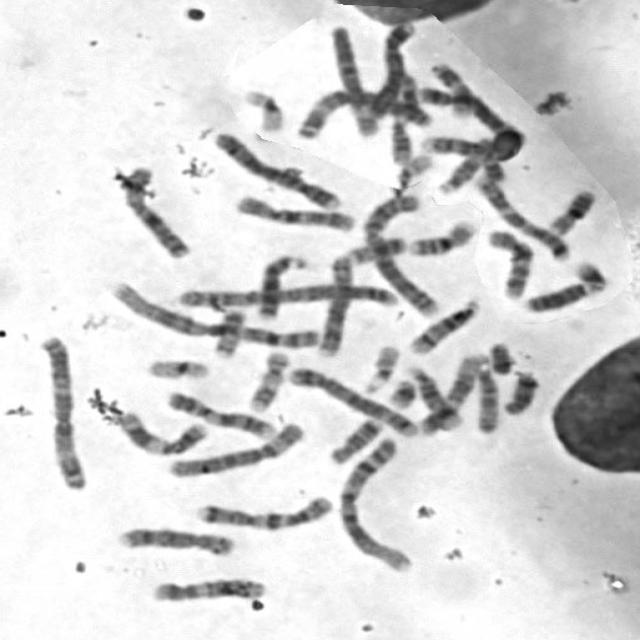A1: (104, 276, 328, 352), (331, 430, 419, 575)
A2: (358, 188, 444, 318), (170, 279, 404, 311)
A3: (33, 329, 91, 492), (291, 80, 438, 142)
B4: (206, 125, 345, 211), (360, 17, 420, 124)
B5: (282, 360, 423, 438), (412, 80, 526, 158)
C10: (227, 189, 357, 234), (480, 223, 538, 301)
C11: (110, 406, 211, 457), (386, 70, 422, 166)
C12: (414, 348, 490, 437), (146, 572, 269, 604)
C6: (161, 416, 309, 479), (323, 20, 384, 140)
C7: (469, 170, 574, 262), (191, 489, 337, 531)
C8: (310, 251, 356, 358), (112, 520, 238, 558)
C9: (161, 386, 281, 440), (417, 131, 510, 183)
D13: (251, 248, 309, 320), (519, 277, 593, 314)
D14: (406, 294, 484, 356), (404, 361, 467, 432)
D15: (433, 131, 504, 195), (469, 360, 503, 435)
E16: (402, 214, 480, 258), (541, 182, 599, 238)
E17: (243, 345, 292, 413), (424, 55, 475, 118)
E18: (323, 410, 387, 466), (499, 366, 541, 416)
F19: (236, 83, 287, 133), (141, 353, 213, 381)
F20: (207, 301, 251, 359), (341, 231, 408, 267)
G21: (569, 255, 610, 294), (381, 373, 419, 411)
G22: (357, 338, 403, 394), (391, 148, 436, 187)
X: (112, 160, 195, 262)
Y: (483, 337, 519, 376)
